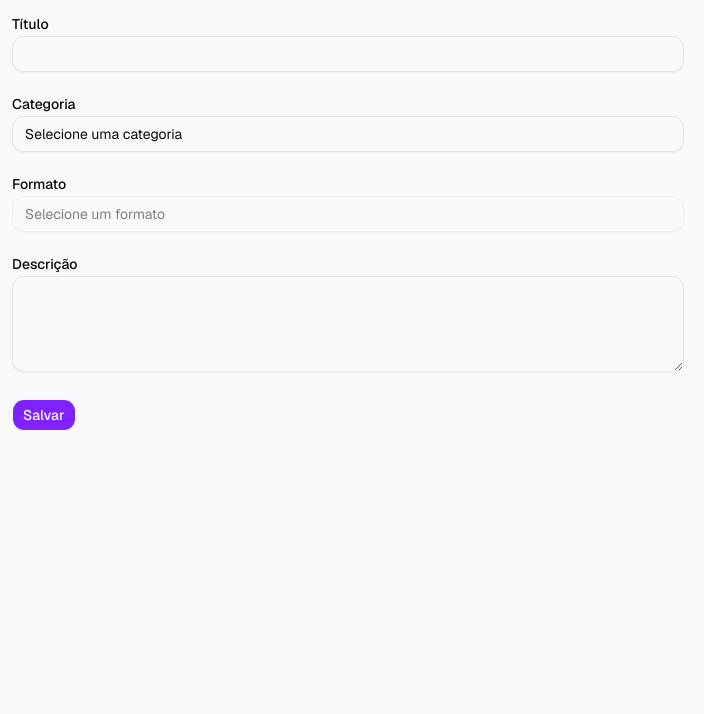
Test: ResourceForm › shows only the fields required by the selected project format
Select "Prática" in the dropdown labelled "Categoria" at (348, 134), box [12,116,684,152]
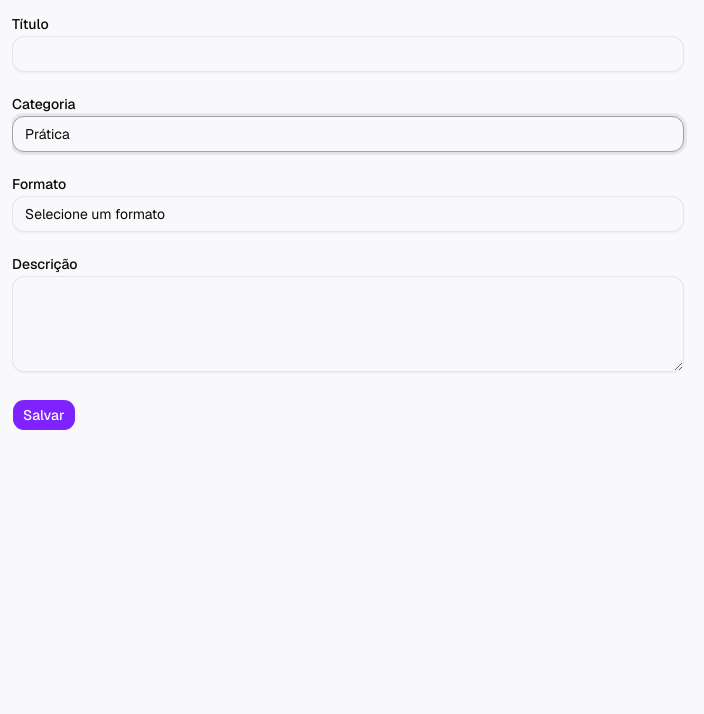
Select "Projeto" in the dropdown labelled "Formato" at (348, 214), box [12,196,684,232]
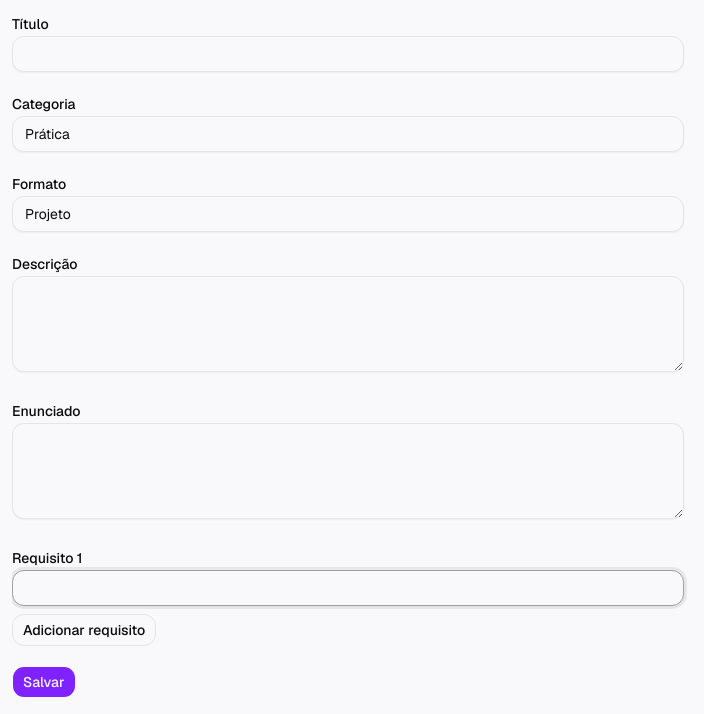
Expected: the text box labelled "Enunciado" is shown, [12,423,684,519]
Expected: the field labelled "Requisito 1" is shown, [12,570,684,606]
